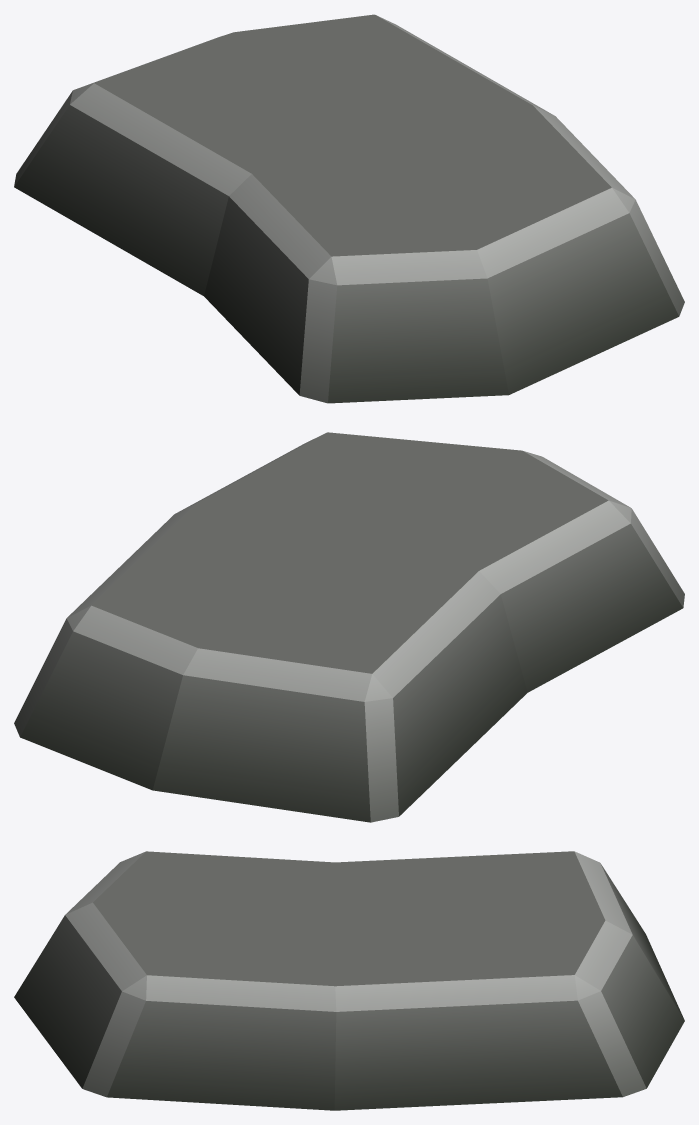
File: Roadstones-1-3.fbx
3 views of the same model, one above another, from view 1: azimuth 30°, elevation 25°; view 2: azimuth 150°, elevation 25°; view 3: azimuth 270°, elevation 25° (orthographic). The views are drawn at different scales.
Parts seen in each view (by area): view 1: Roadstones-1-3; view 2: Roadstones-1-3; view 3: Roadstones-1-3.
Part boxes in pixels (x1=…): Roadstones-1-3: x1=14, y1=14, x2=684, y2=403; Roadstones-1-3: x1=14, y1=432, x2=684, y2=822; Roadstones-1-3: x1=14, y1=851, x2=684, y2=1110.
Size of the model in its own units: 70.92 by 18.02 by 110.
